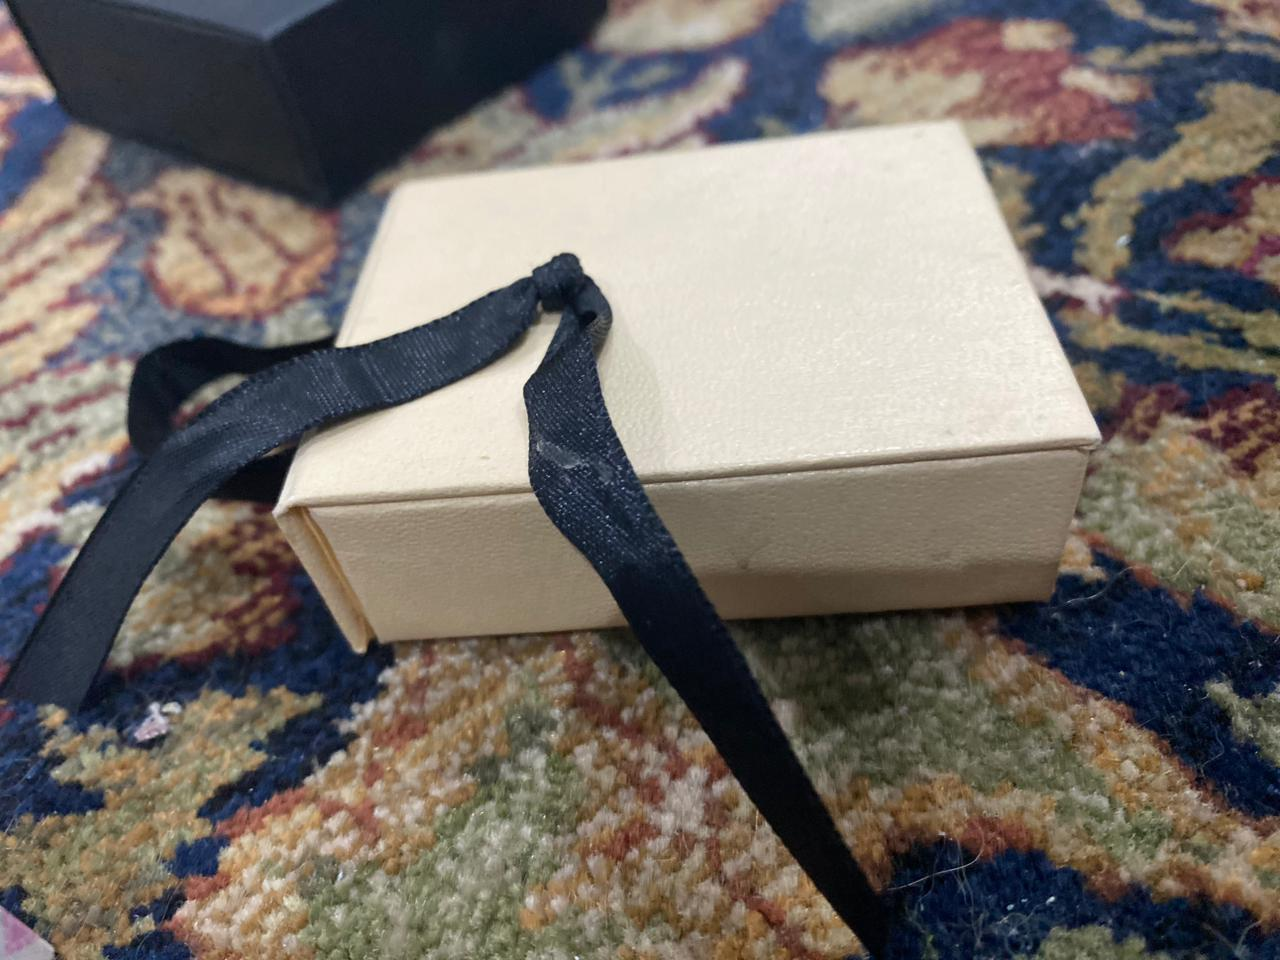Red Box: (1, 1, 609, 212)
Yellow Box: (272, 112, 1108, 665)
